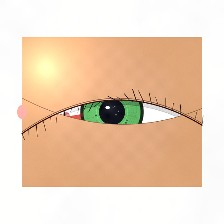hemorrhage_spot: (39, 88, 140, 168)
